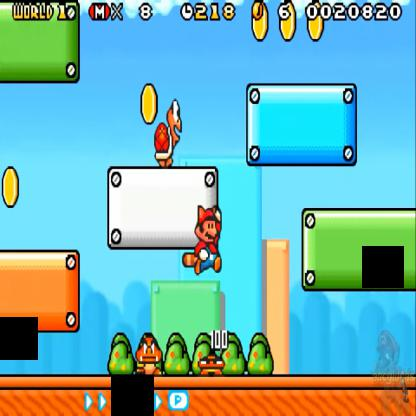Goomba: (132, 329, 164, 377)
Mario: (177, 203, 227, 276)
koopa: (150, 100, 186, 164)
moneda: (0, 162, 22, 212), (278, 3, 298, 53), (139, 79, 157, 127), (306, 0, 324, 48), (249, 0, 273, 33)
